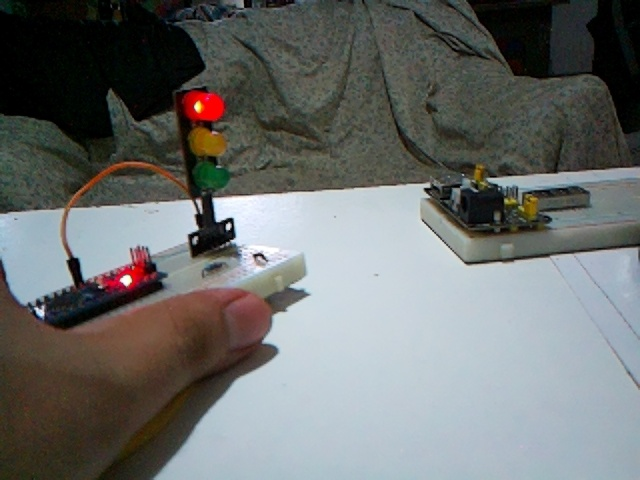traffic_light_red: (176, 86, 235, 252)
